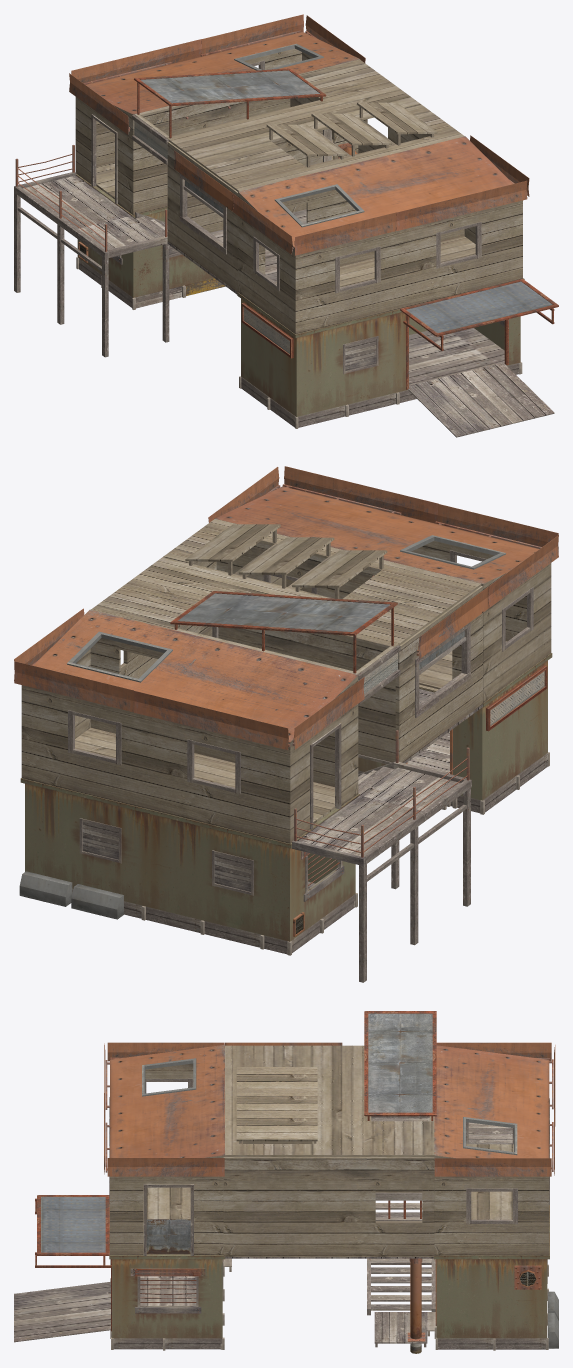
The model's file is desert_shanty.glb.
3 renders of one model, top to bottom at view 1: azimuth 30°, elevation 25°; view 2: azimuth 150°, elevation 25°; view 3: azimuth 270°, elevation 25°, orthographic. The views are drawn at different scales.
Parts seen in each view (by area): view 1: ID_04, ID_03, ID_05, ID_02, ID_06, ID_01; view 2: ID_02, ID_03, ID_01, ID_04, ID_06, ID_05; view 3: ID_03, ID_04, ID_02, ID_05, ID_01, ID_06.
Part boxes in pixels (x1,y1,x2,y2): ID_04: (233,135,529,334); ID_03: (132,59,464,294); ID_05: (237,278,558,437); ID_02: (69,14,365,215); ID_06: (14,142,357,357); ID_01: (76,174,225,309); ID_02: (14,608,364,843); ID_03: (91,519,489,764); ID_01: (20,778,359,955); ID_04: (208,466,558,702); ID_06: (19,730,471,982); ID_05: (358,653,552,814); ID_03: (223,1011,436,1258); ID_04: (104,1042,224,1255); ID_02: (434,1042,555,1255); ID_05: (14,1195,231,1350); ID_01: (427,1205,549,1350); ID_06: (367,1116,558,1353).
Bounding box in the file's own units: 18.39 × 14.25 × 29.59.
Materials: 6 (6 with a texture image).
